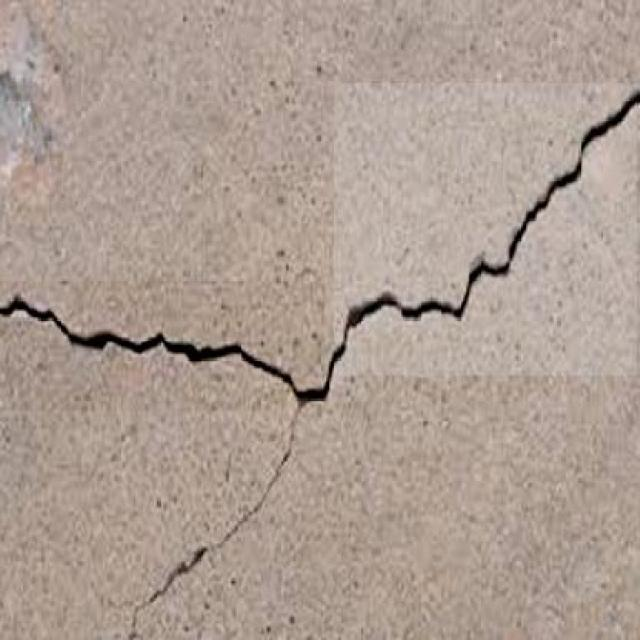Crack: (330, 95, 640, 379), (111, 411, 304, 635), (11, 286, 330, 416)
